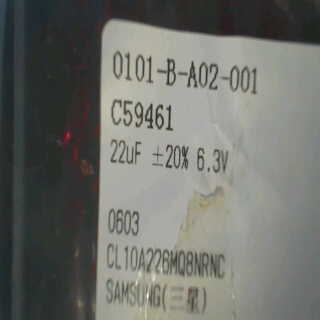22uF: (106, 138, 147, 165)
